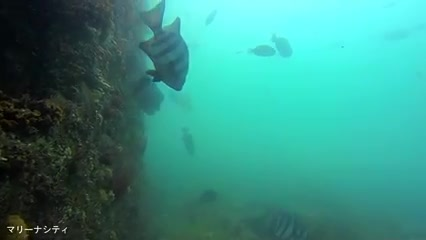smallfish: (138, 1, 190, 94), (241, 39, 281, 62)
